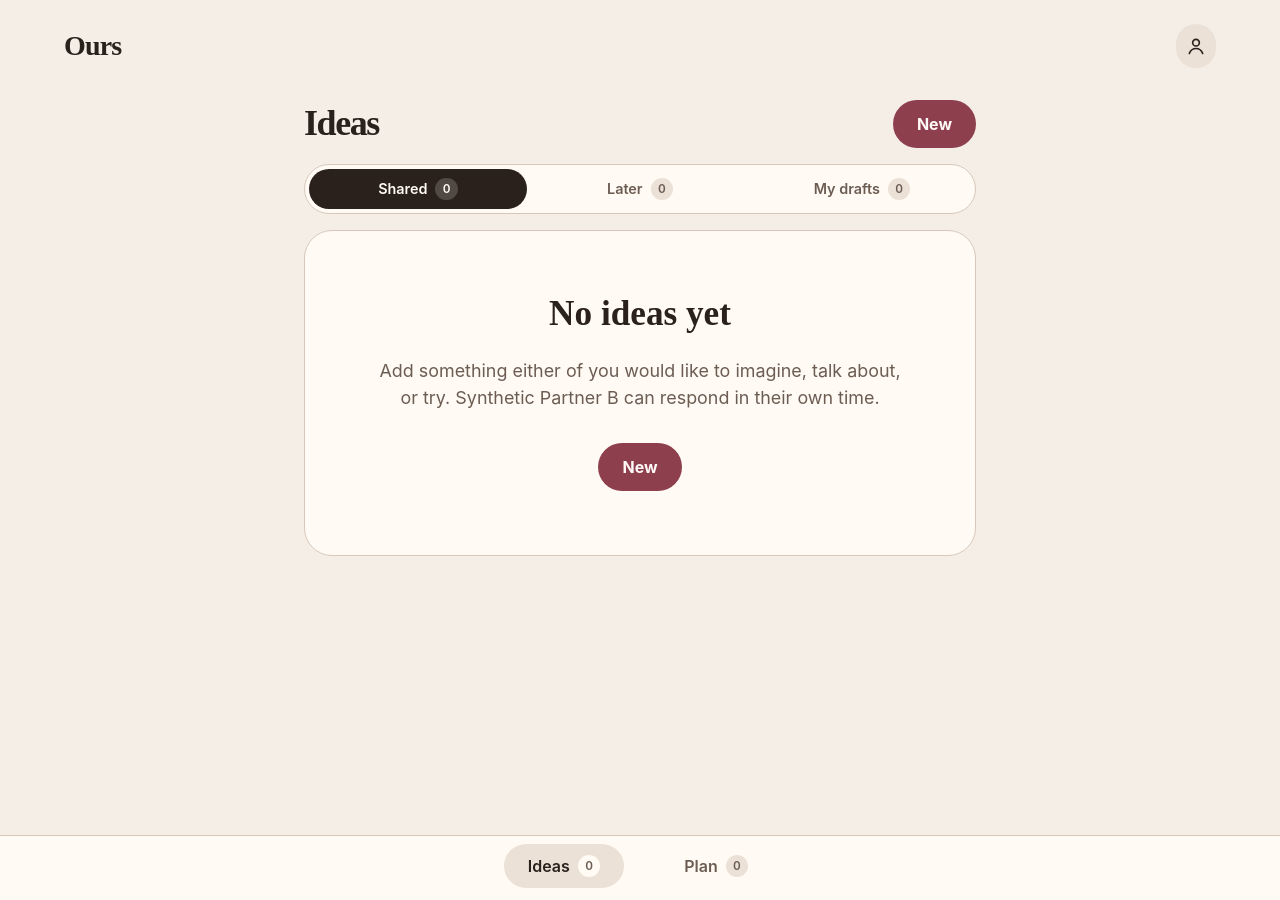
authenticated routes › moves between sections with the primary navigation
This screenshot has width=1280, height=900.
Step 1. Click the link "Plan 0" → [716, 866], box [684, 855, 748, 877]
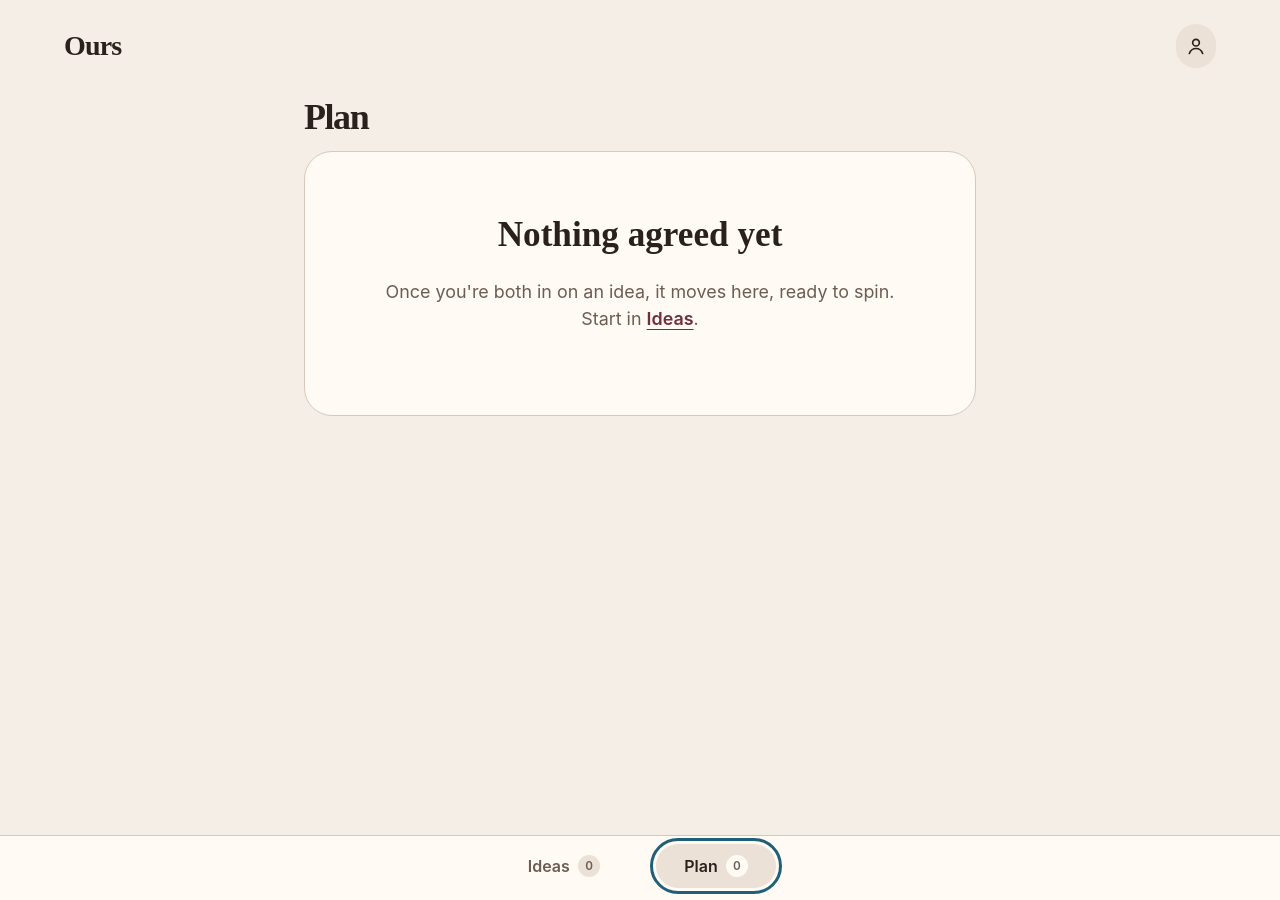
Result: the heading "Plan" is shown at [304, 100, 368, 135]
